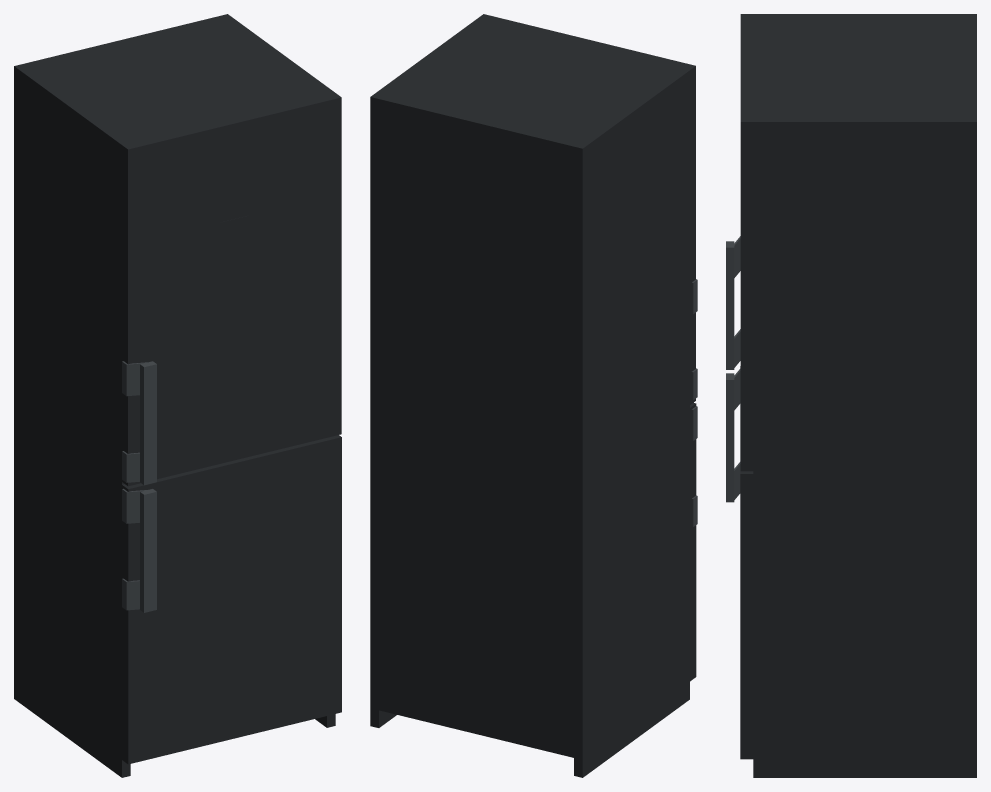
Rendered from refrigeratorwithverticalhandle _01_E.gltf.
The picture shows the model from 3 angles, left to right: view 1: azimuth 30°, elevation 25°; view 2: azimuth 150°, elevation 25°; view 3: azimuth 270°, elevation 25°; orthographic projection. The views are drawn at different scales.
Parts seen in each view (by area): view 1: refrigeratorwithverticalhandle _01_E, Doorrefrigeratorwithverticalhandletop _01_E, Doorrefrigeratorwithverticalhandlebot _01_E; view 2: refrigeratorwithverticalhandle _01_E, Doorrefrigeratorwithverticalhandletop _01_E, Doorrefrigeratorwithverticalhandlebot _01_E; view 3: refrigeratorwithverticalhandle _01_E, Doorrefrigeratorwithverticalhandletop _01_E, Doorrefrigeratorwithverticalhandlebot _01_E.
Part boxes in pixels (x1,y1,x2,y2): refrigeratorwithverticalhandle _01_E: (14, 14, 335, 777); Doorrefrigeratorwithverticalhandletop _01_E: (122, 93, 341, 486); Doorrefrigeratorwithverticalhandlebot _01_E: (122, 435, 341, 764); refrigeratorwithverticalhandle _01_E: (370, 18, 689, 777); Doorrefrigeratorwithverticalhandletop _01_E: (478, 14, 697, 404); Doorrefrigeratorwithverticalhandlebot _01_E: (690, 402, 697, 681); refrigeratorwithverticalhandle _01_E: (753, 14, 976, 777); Doorrefrigeratorwithverticalhandletop _01_E: (726, 14, 753, 471); Doorrefrigeratorwithverticalhandlebot _01_E: (726, 366, 753, 759).
Bounding box in the file's own units: 0.8059 × 2.26 × 0.7847.
Materials: 1 (1 with a texture image).
